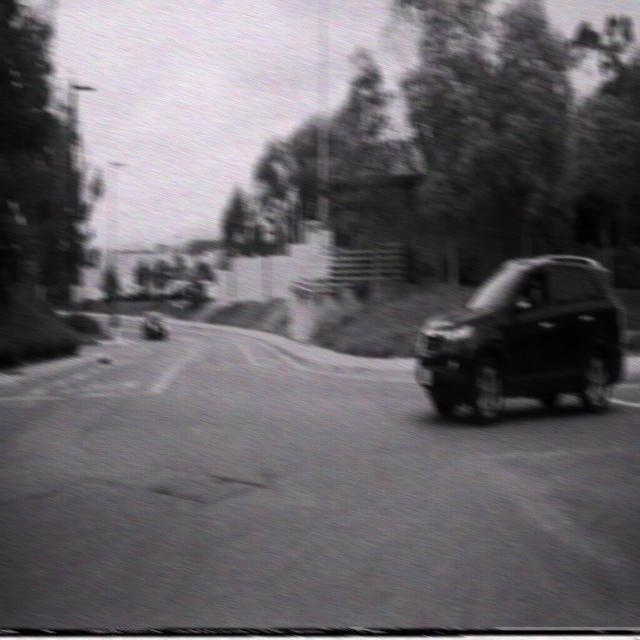speedLimit25: (318, 228, 334, 259)
